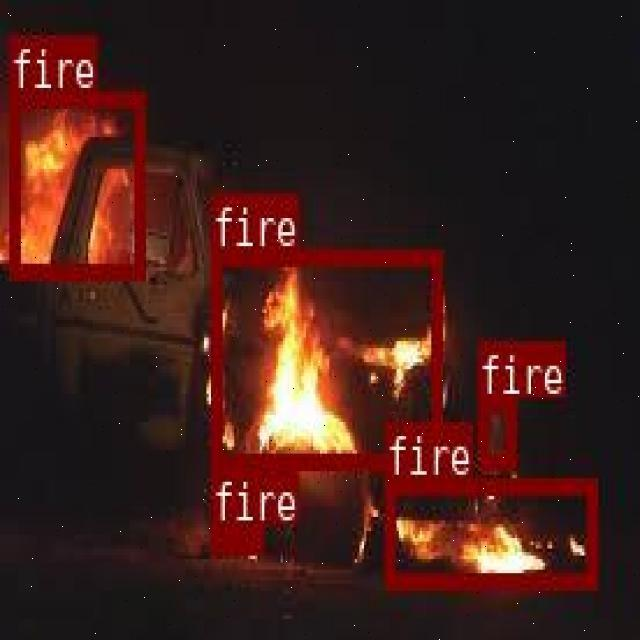fire: (209, 249, 440, 466), (7, 91, 143, 276), (385, 477, 595, 585), (477, 395, 513, 467), (209, 522, 262, 550)
